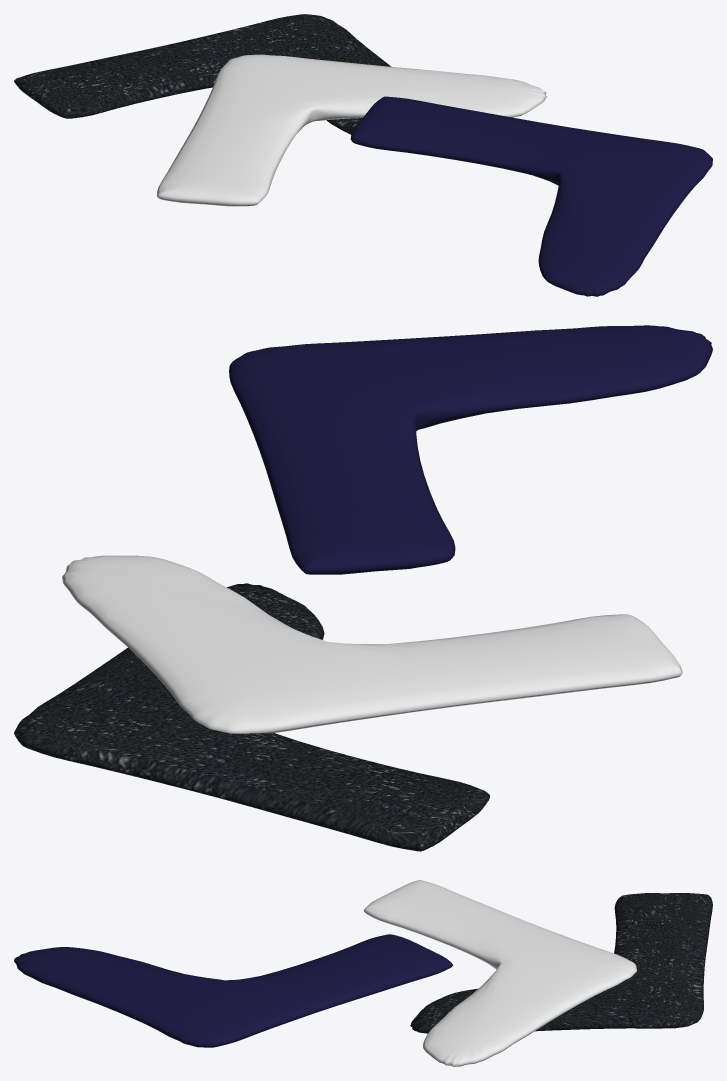
Rendered from НОСКИ.fbx.
3 views of the same model, one above another, from view 1: azimuth 30°, elevation 25°; view 2: azimuth 150°, elevation 25°; view 3: azimuth 270°, elevation 25° (orthographic). The views are drawn at different scales.
Parts seen in each view (by area): view 1: Плоскость.006, Плоскость.002, Плоскость; view 2: Плоскость.006, Плоскость.002, Плоскость; view 3: Плоскость.006, Плоскость.002, Плоскость.
Part boxes in pixels (x1,y1,x2,y2): Плоскость.006: [350, 96, 712, 296]; Плоскость.002: [157, 54, 546, 206]; Плоскость: [14, 14, 391, 134]; Плоскость.006: [229, 325, 712, 574]; Плоскость.002: [62, 555, 682, 733]; Плоскость: [14, 583, 489, 851]; Плоскость.006: [14, 934, 453, 1047]; Плоскость.002: [364, 880, 636, 1066]; Плоскость: [410, 893, 712, 1033].
Bounding box in the file's own units: 158 × 19.29 × 248.
3 materials, 1 textured.
